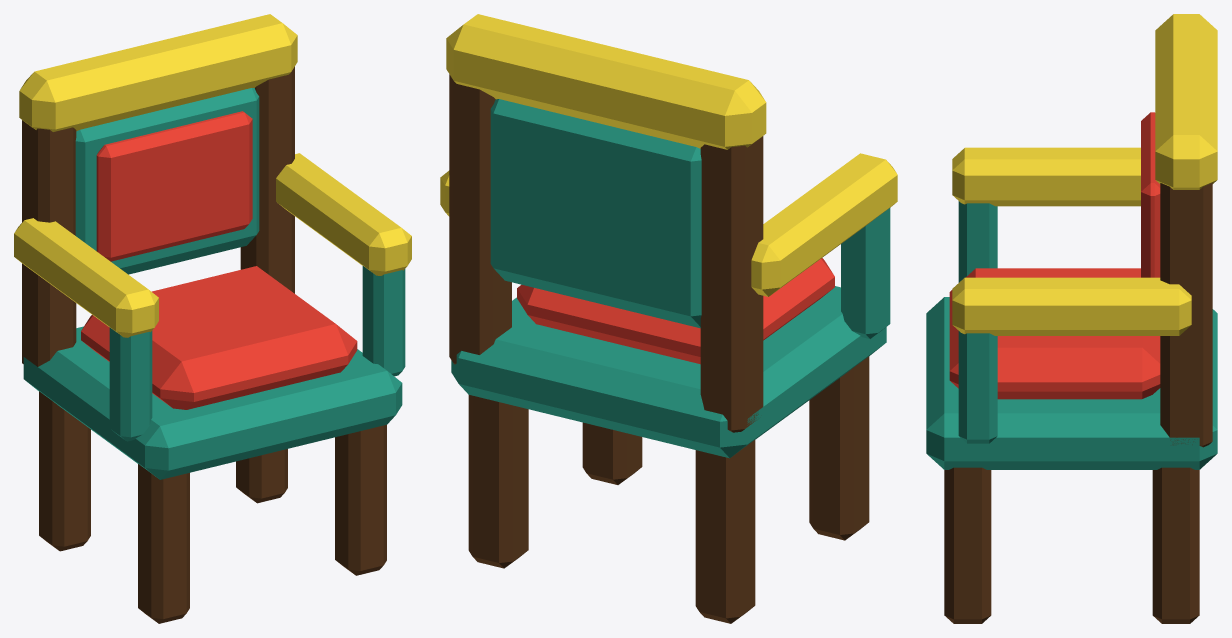
File: furniture.glb
The picture shows the model from 3 angles, left to right: view 1: azimuth 30°, elevation 25°; view 2: azimuth 150°, elevation 25°; view 3: azimuth 270°, elevation 25°; orthographic projection. The views are drawn at different scales.
Visible parts, largest first — view 1: furniture-chair-seat-frame, furniture-red-seat-cushion, furniture-red-back-cushion, furniture-yellow-back-crown, furniture-teal-back-panel, furniture-left-back-post, furniture-left-yellow-arm, furniture-right-yellow-arm, furniture-chair-leg-0, furniture-chair-leg-1, furniture-right-back-post, furniture-chair-leg-2 (+3 smaller); view 2: furniture-teal-back-panel, furniture-chair-seat-frame, furniture-yellow-back-crown, furniture-left-back-post, furniture-right-back-post, furniture-left-yellow-arm, furniture-chair-leg-2, furniture-chair-leg-3, furniture-chair-leg-0, furniture-red-seat-cushion, furniture-left-arm-post, furniture-chair-leg-1; view 3: furniture-chair-seat-frame, furniture-right-yellow-arm, furniture-red-seat-cushion, furniture-right-back-post, furniture-left-yellow-arm, furniture-yellow-back-crown, furniture-chair-leg-1, furniture-chair-leg-3, furniture-right-arm-post, furniture-red-back-cushion, furniture-left-arm-post.
Part boxes in pixels (left/top/right/bottom): furniture-chair-seat-frame: left=23, top=326, right=402, bottom=479; furniture-red-seat-cushion: left=81, top=266, right=357, bottom=409; furniture-red-back-cushion: left=96, top=111, right=252, bottom=261; furniture-yellow-back-crown: left=19, top=14, right=297, bottom=131; furniture-teal-back-panel: left=75, top=88, right=259, bottom=274; furniture-left-back-post: left=22, top=120, right=76, bottom=366; furniture-left-yellow-arm: left=14, top=218, right=158, bottom=337; furniture-right-yellow-arm: left=276, top=153, right=411, bottom=275; furniture-chair-leg-0: left=138, top=464, right=189, bottom=623; furniture-chair-leg-1: left=335, top=424, right=386, bottom=575; furniture-right-back-post: left=240, top=66, right=294, bottom=293; furniture-chair-leg-2: left=39, top=391, right=90, bottom=551; furniture-teal-back-panel: left=490, top=99, right=701, bottom=328; furniture-chair-seat-frame: left=451, top=286, right=886, bottom=458; furniture-yellow-back-crown: left=446, top=14, right=766, bottom=149; furniture-left-back-post: left=700, top=136, right=763, bottom=432; furniture-right-back-post: left=449, top=74, right=511, bottom=364; furniture-left-yellow-arm: left=751, top=153, right=897, bottom=296; furniture-chair-leg-2: left=695, top=440, right=755, bottom=623; furniture-chair-leg-3: left=468, top=395, right=528, bottom=568; furniture-chair-leg-0: left=809, top=356, right=869, bottom=540; furniture-red-seat-cushion: left=517, top=258, right=834, bottom=364; furniture-left-arm-post: left=841, top=208, right=890, bottom=338; furniture-chair-leg-1: left=582, top=422, right=642, bottom=484; furniture-chair-seat-frame: left=926, top=297, right=1217, bottom=469; furniture-right-yellow-arm: left=952, top=277, right=1191, bottom=335; furniture-red-seat-cushion: left=949, top=268, right=1160, bottom=399; furniture-right-back-post: left=1160, top=183, right=1212, bottom=447; furniture-left-yellow-arm: left=952, top=147, right=1140, bottom=206; furniture-yellow-back-crown: left=1155, top=14, right=1217, bottom=189; furniture-chair-leg-1: left=944, top=467, right=991, bottom=623; furniture-chair-leg-3: left=1152, top=467, right=1199, bottom=623; furniture-right-arm-post: left=958, top=331, right=997, bottom=443; furniture-red-back-cushion: left=1141, top=112, right=1160, bottom=277; furniture-left-arm-post: left=958, top=201, right=997, bottom=282.
Size of the model in its own units: 0.6603 by 1 by 0.5359.
